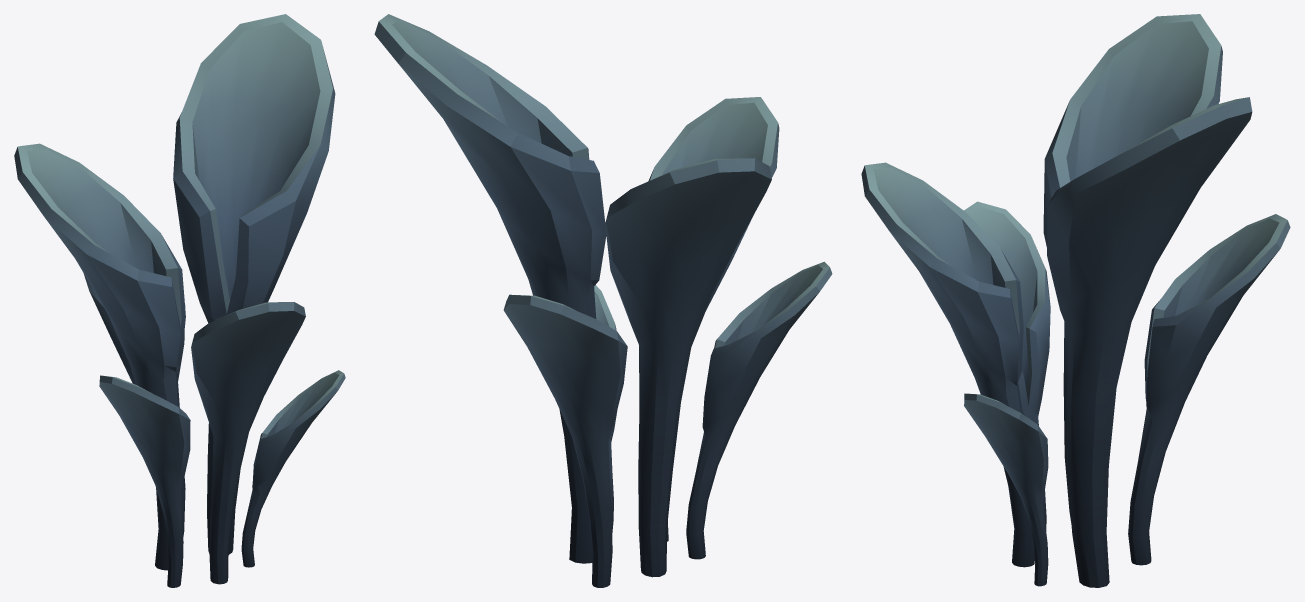
The model's file is garden_plant_winter_2.glb.
3 views of the same model, side by side, from view 1: azimuth 30°, elevation 25°; view 2: azimuth 150°, elevation 25°; view 3: azimuth 270°, elevation 25° (orthographic). The views are drawn at different scales.
Visible parts, largest first — view 1: garden_plant_winter_2; view 2: garden_plant_winter_2; view 3: garden_plant_winter_2.
Part boxes in pixels (x1,y1,x2,y2): garden_plant_winter_2: (14, 14, 345, 587); garden_plant_winter_2: (374, 14, 832, 587); garden_plant_winter_2: (861, 14, 1290, 587).
Bounding box in the file's own units: 1.41 × 2.03 × 1.45.
Materials: 1 (1 with a texture image).
